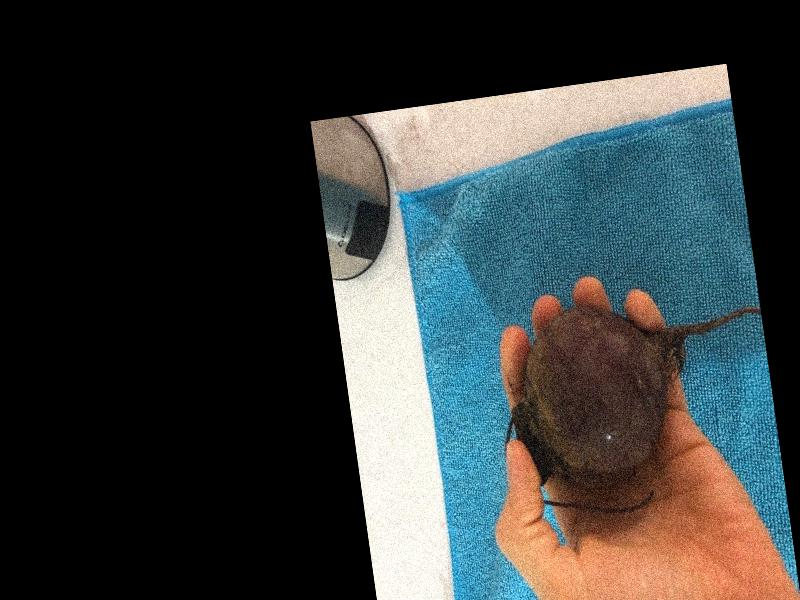Beet: (487, 280, 785, 526)
